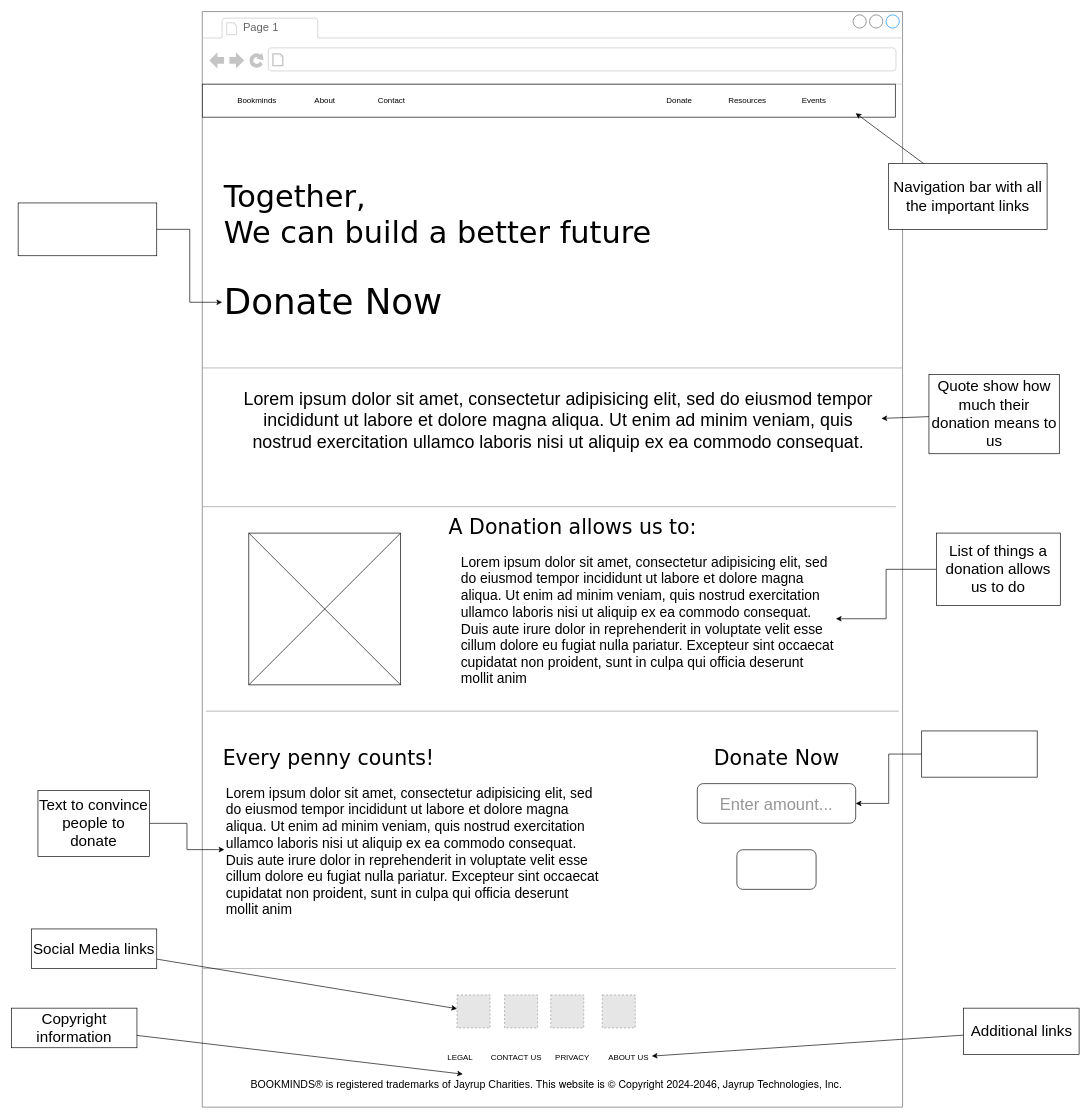
This 1091x1119 diagram has some shape labels left out. Grey dashed boxes stand in for pictures. The centre of each missing label's shape, as x and y in pixels:
"Donate section" goes at (x=979, y=753).
"https://www.default.com" goes at (x=370, y=59).
"Simple hero page with a call to action" goes at (x=87, y=229).
"Submit" goes at (x=776, y=869).
